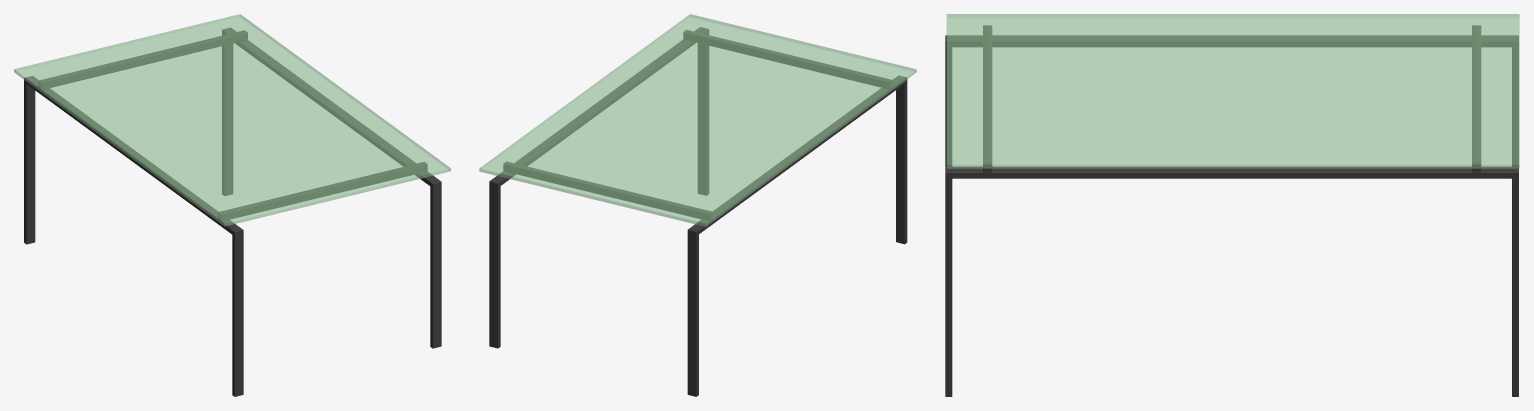
Rendered from Table 3.FBX.
The picture shows the model from 3 angles, left to right: view 1: azimuth 30°, elevation 25°; view 2: azimuth 150°, elevation 25°; view 3: azimuth 270°, elevation 25°; orthographic projection. The views are drawn at different scales.
Visible parts, largest first — view 1: table; view 2: table; view 3: table.
Part boxes in pixels (x1=…): table: x1=14, y1=14, x2=450, y2=396; table: x1=479, y1=14, x2=916, y2=396; table: x1=945, y1=14, x2=1519, y2=396.
Size of the model in its own units: 1244 by 924 by 2008.
